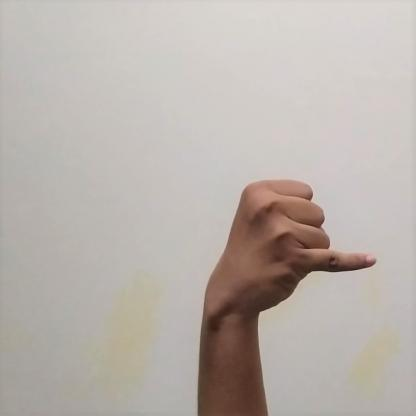J: (194, 176, 377, 320)
